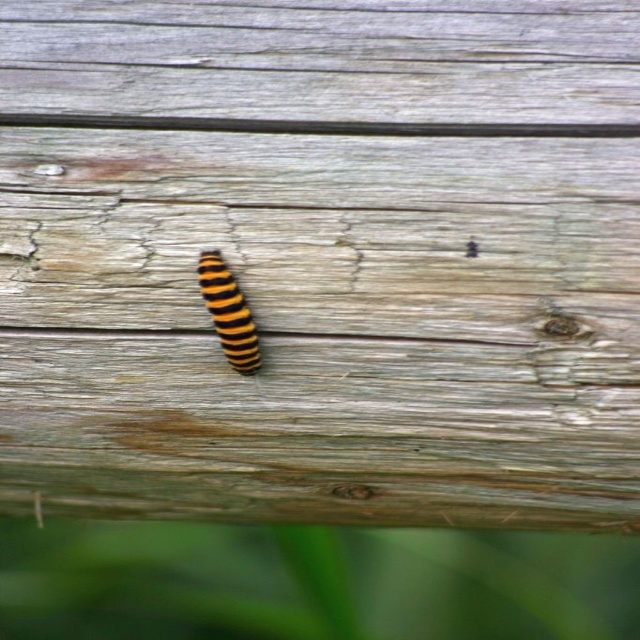Caterpillar: (197, 245, 264, 377)
